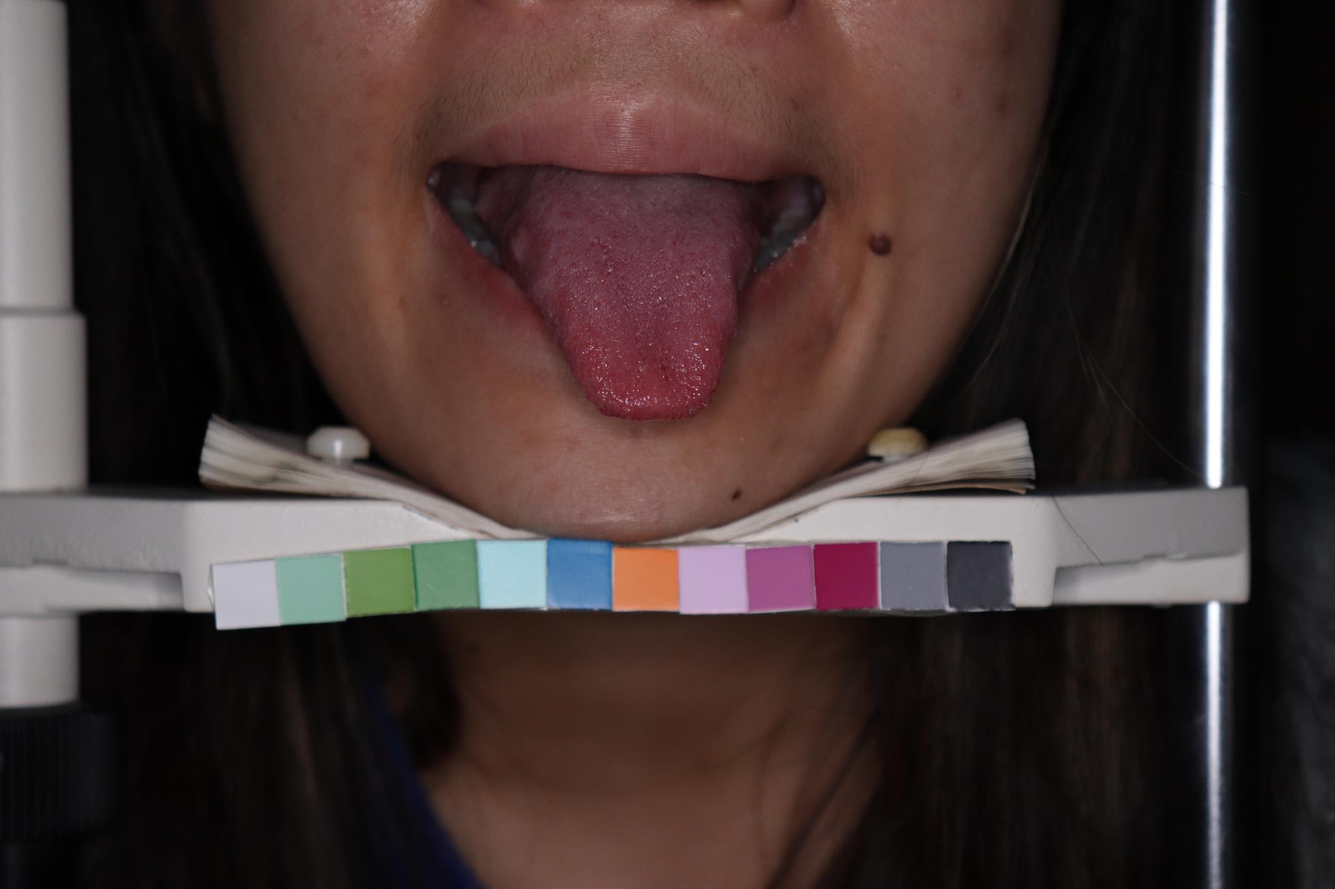baitaishe: (465, 156, 771, 432)
hongshe: (465, 156, 771, 432)
shoushe: (465, 156, 771, 432)
